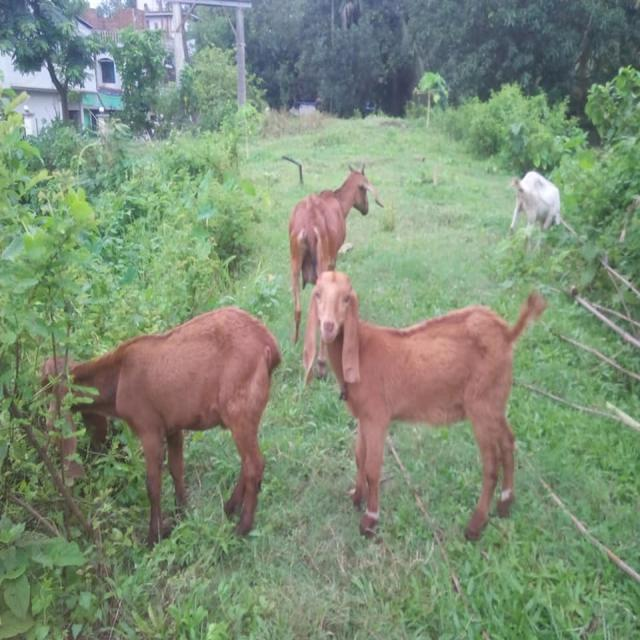Goat: (303, 268, 547, 542), (39, 304, 282, 550), (287, 162, 383, 383), (509, 169, 561, 252)
